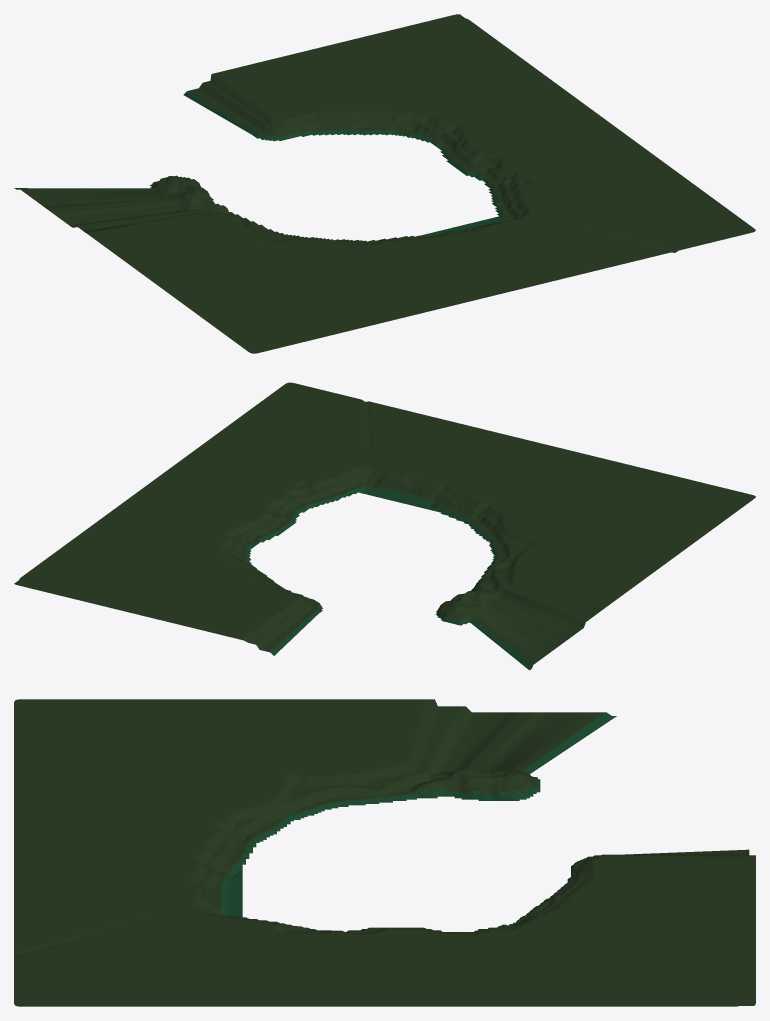
The model's file is Chão Cenário.fbx.
3 views of the same model, one above another, from view 1: azimuth 30°, elevation 25°; view 2: azimuth 150°, elevation 25°; view 3: azimuth 270°, elevation 25° (orthographic). The views are drawn at different scales.
Visible parts, largest first — view 1: Chão Cenário; view 2: Chão Cenário; view 3: Chão Cenário.
Part boxes in pixels (x1=…): Chão Cenário: x1=14, y1=14, x2=755, y2=353; Chão Cenário: x1=14, y1=382, x2=755, y2=670; Chão Cenário: x1=14, y1=699, x2=755, y2=1006.
Size of the model in its own units: 35903 by 930 by 36601.
